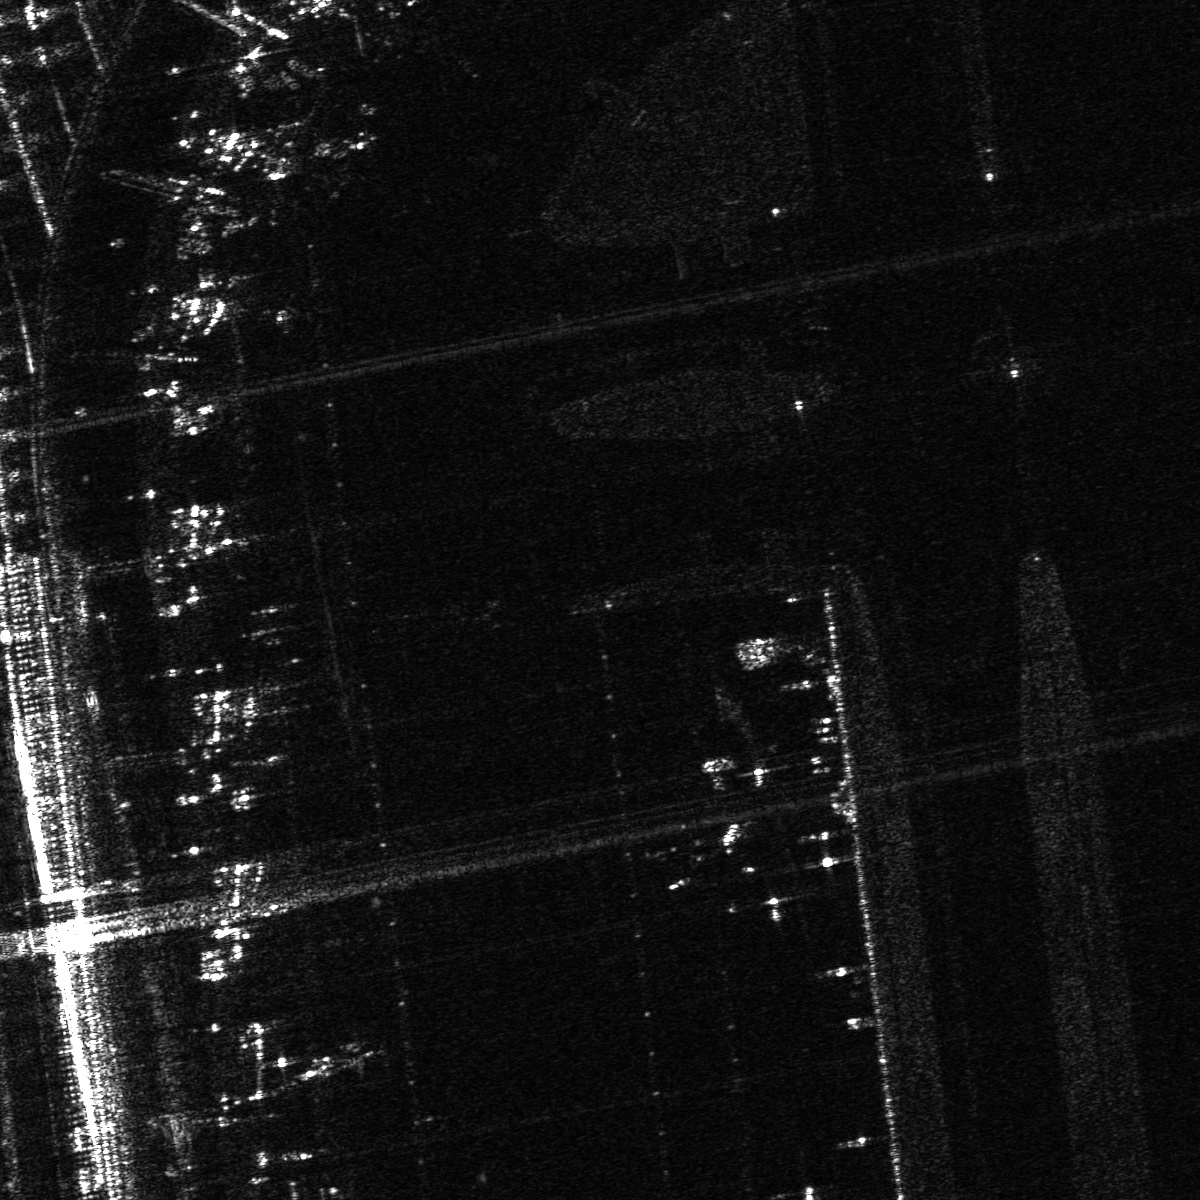A220: (200, 499, 268, 584)
